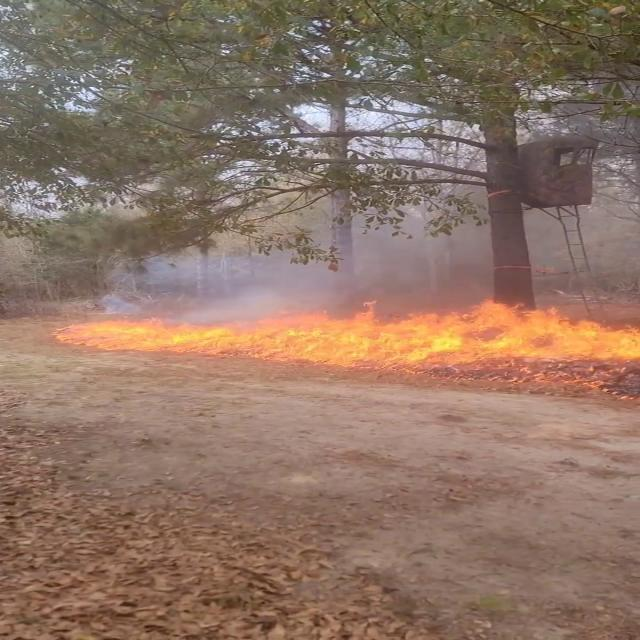Fire: (58, 296, 639, 364)
Smoke: (142, 201, 612, 315)
